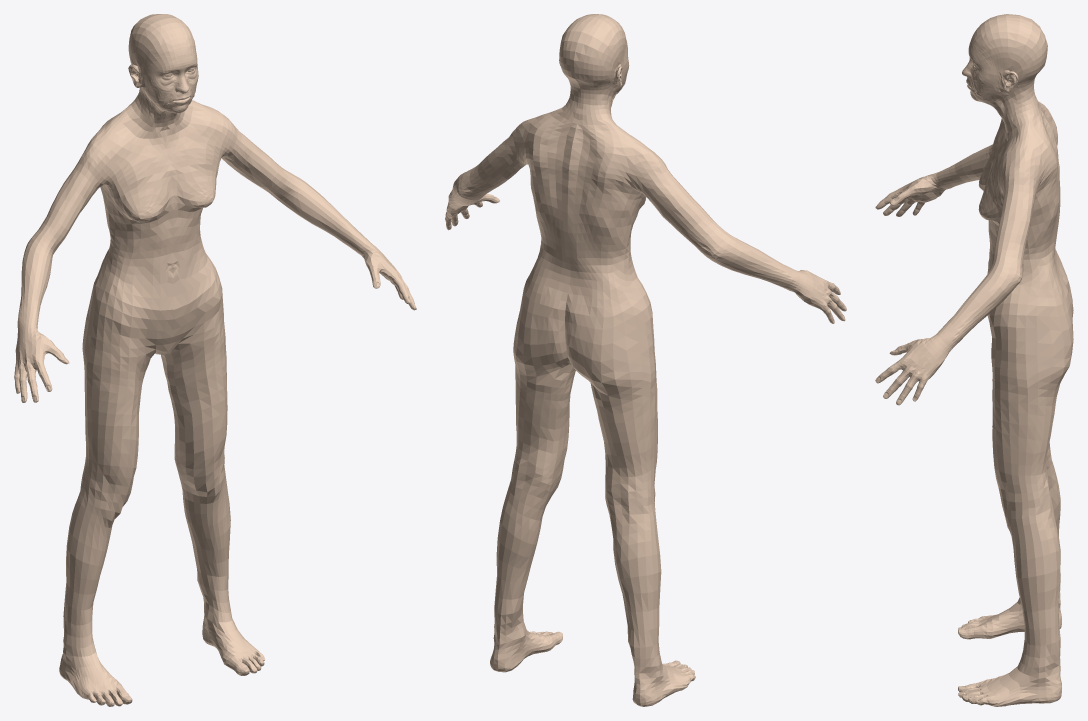
Rendered from female-elder-lean-strong.glb.
The picture shows the model from 3 angles, left to right: view 1: azimuth 30°, elevation 25°; view 2: azimuth 150°, elevation 25°; view 3: azimuth 270°, elevation 25°; orthographic projection.
Visible parts, largest first — view 1: world; view 2: world; view 3: world.
Boxes of the visible parts, x1,y1,x2,y2 form: world: [14, 14, 416, 706]; world: [445, 14, 846, 706]; world: [875, 14, 1073, 706].
Size of the model in its own units: 1.13 by 1.8 by 0.4975.
